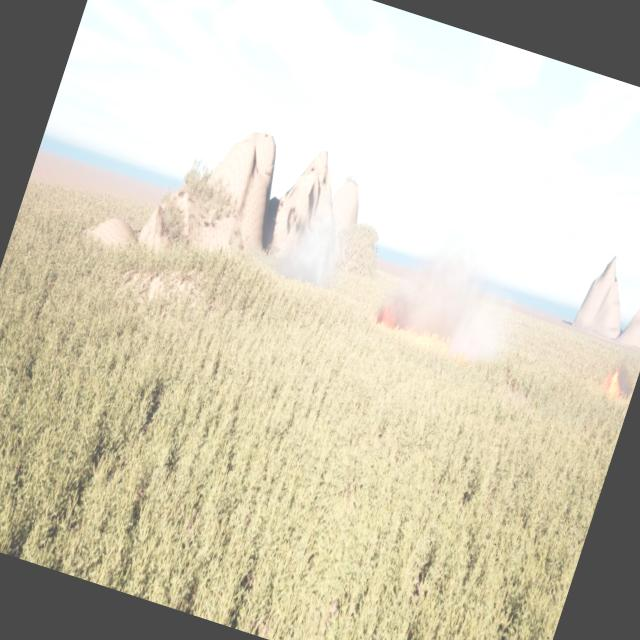fire: (373, 294, 404, 328), (600, 366, 629, 401)
smoke: (370, 220, 530, 374), (268, 193, 352, 295), (608, 358, 639, 400)
